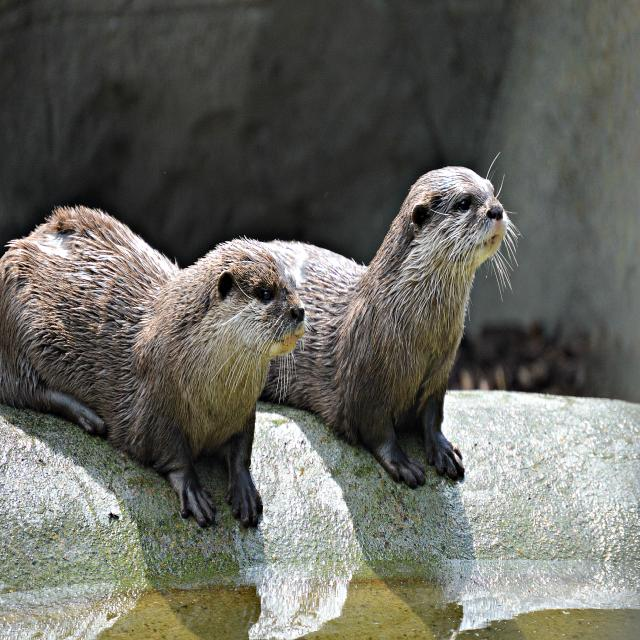otter: (1, 206, 306, 529), (254, 168, 507, 489)
